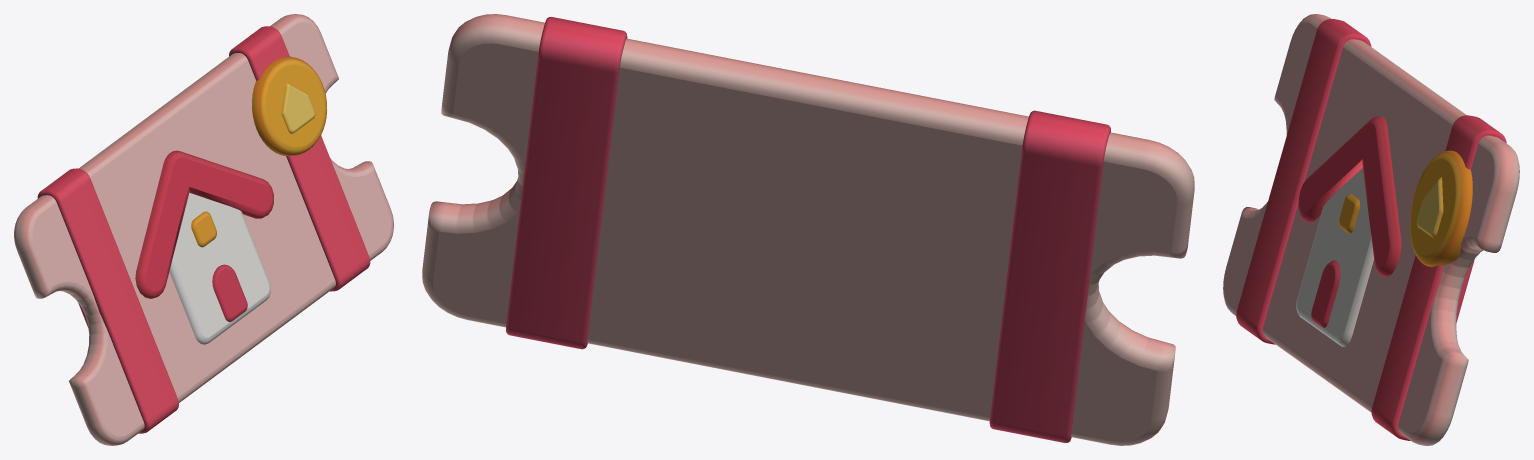
The model's file is House_Coupon.glb.
3 views of the same model, side by side, from view 1: azimuth 30°, elevation 25°; view 2: azimuth 150°, elevation 25°; view 3: azimuth 270°, elevation 25° (orthographic). The views are drawn at different scales.
Parts seen in each view (by area): view 1: House_Coupon; view 2: House_Coupon; view 3: House_Coupon.
Part boxes in pixels (x1,y1,x2,y2): House_Coupon: [14, 14, 393, 445]; House_Coupon: [422, 14, 1194, 445]; House_Coupon: [1223, 14, 1519, 445].
Size of the model in its own units: 2.04 by 1.27 by 1.02.
